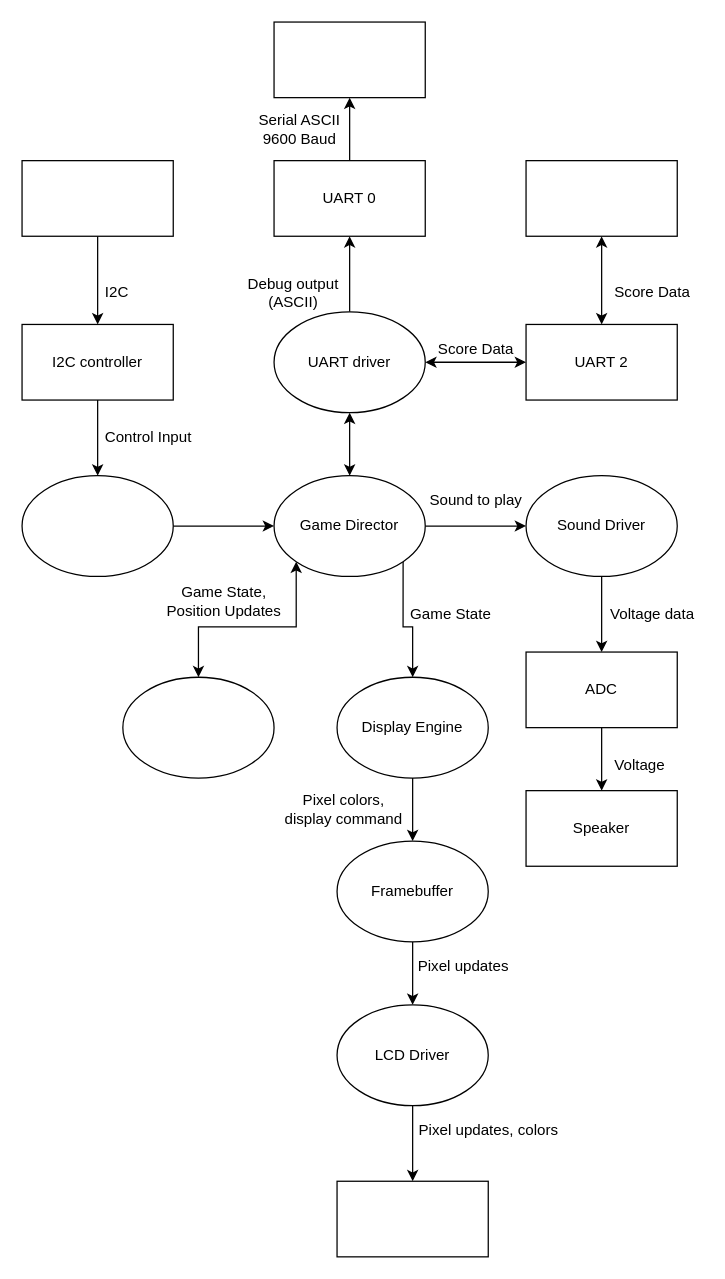
This 725x1279 diagram has some shape labels left out. The box of each missing label's shape, as (x1, y1, x2, y2) in pixels:
Bluetooth chip: (525, 159, 677, 236)
Debug PC: (273, 21, 425, 98)
I2C driver: (21, 474, 173, 576)
LCD: (336, 1180, 488, 1257)
Physics Engine: (122, 676, 274, 778)
Wii Nunchuck: (21, 159, 173, 236)
